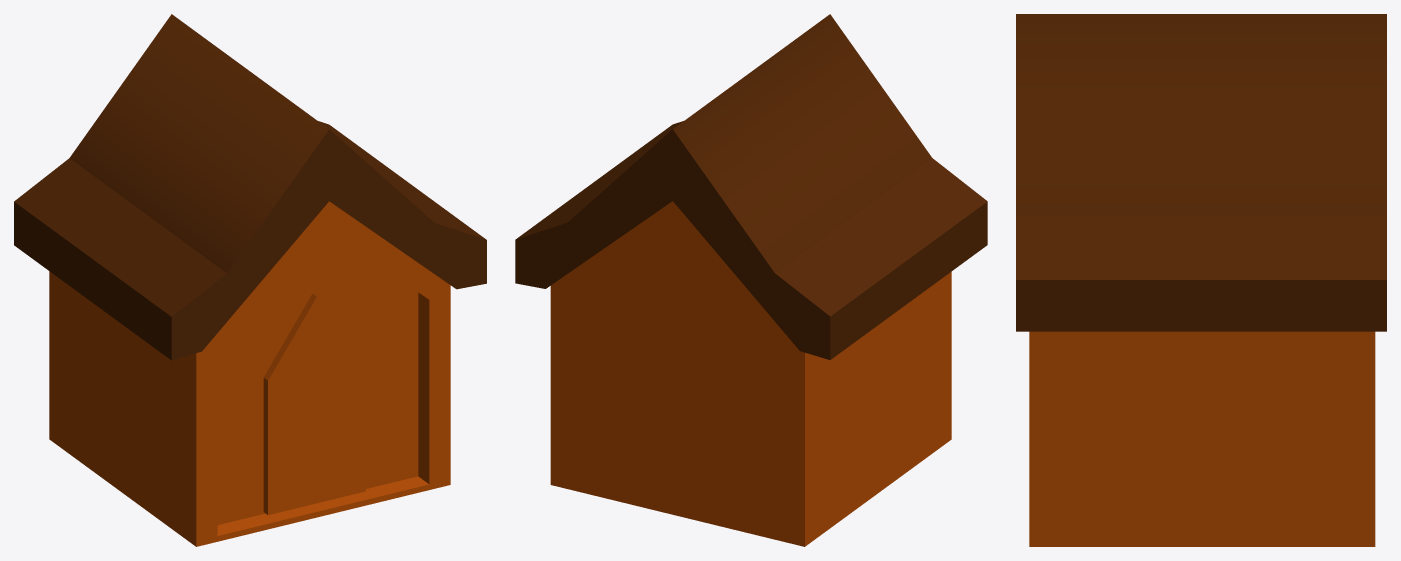
File: casa.fbx
3 renders of one model, left to right at view 1: azimuth 30°, elevation 25°; view 2: azimuth 150°, elevation 25°; view 3: azimuth 270°, elevation 25°, orthographic. The views are drawn at different scales.
Parts seen in each view (by area): view 1: Box001, Object001; view 2: Box001, Object001; view 3: Object001, Box001.
Part boxes in pixels (x1=…): Box001: x1=49, y1=201, x2=450, y2=546; Object001: x1=14, y1=14, x2=486, y2=360; Box001: x1=550, y1=201, x2=951, y2=546; Object001: x1=515, y1=14, x2=987, y2=359; Object001: x1=1016, y1=14, x2=1386, y2=331; Box001: x1=1029, y1=331, x2=1375, y2=546.
Size of the model in its own units: 61.96 by 73.36 by 53.63.
